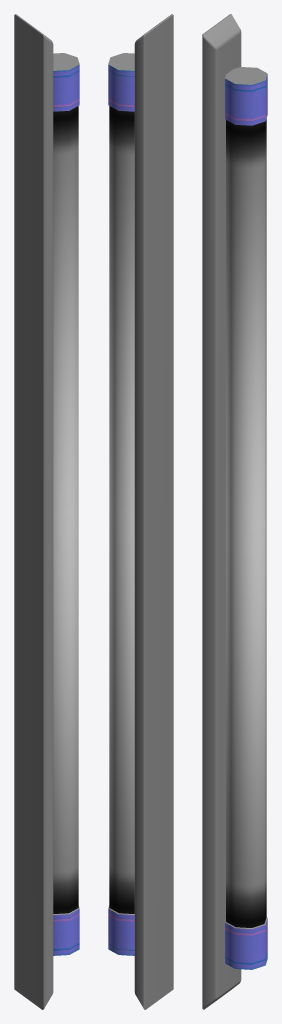
File: NeonLight.FBX
3 renders of one model, left to right at view 1: azimuth 30°, elevation 25°; view 2: azimuth 150°, elevation 25°; view 3: azimuth 330°, elevation 25°, orthographic.
Visible parts, largest first — view 1: Box058, Line001, Line002; view 2: Box058, Line001, Line002; view 3: Line001, Box058, Line002.
Part boxes in pixels (bbox=[...]): Box058: bbox=[14, 14, 53, 1009]; Line001: bbox=[53, 106, 78, 913]; Line002: bbox=[53, 53, 79, 955]; Box058: bbox=[134, 14, 173, 1009]; Line001: bbox=[109, 106, 134, 913]; Line002: bbox=[108, 53, 134, 955]; Line001: bbox=[226, 118, 266, 927]; Box058: bbox=[202, 14, 241, 1009]; Line002: bbox=[225, 67, 267, 969].
Bounding box in the file's own units: 7.06 × 133 × 7.38.
